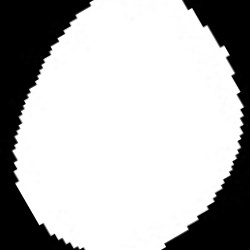spot: (13, 0, 243, 250)
